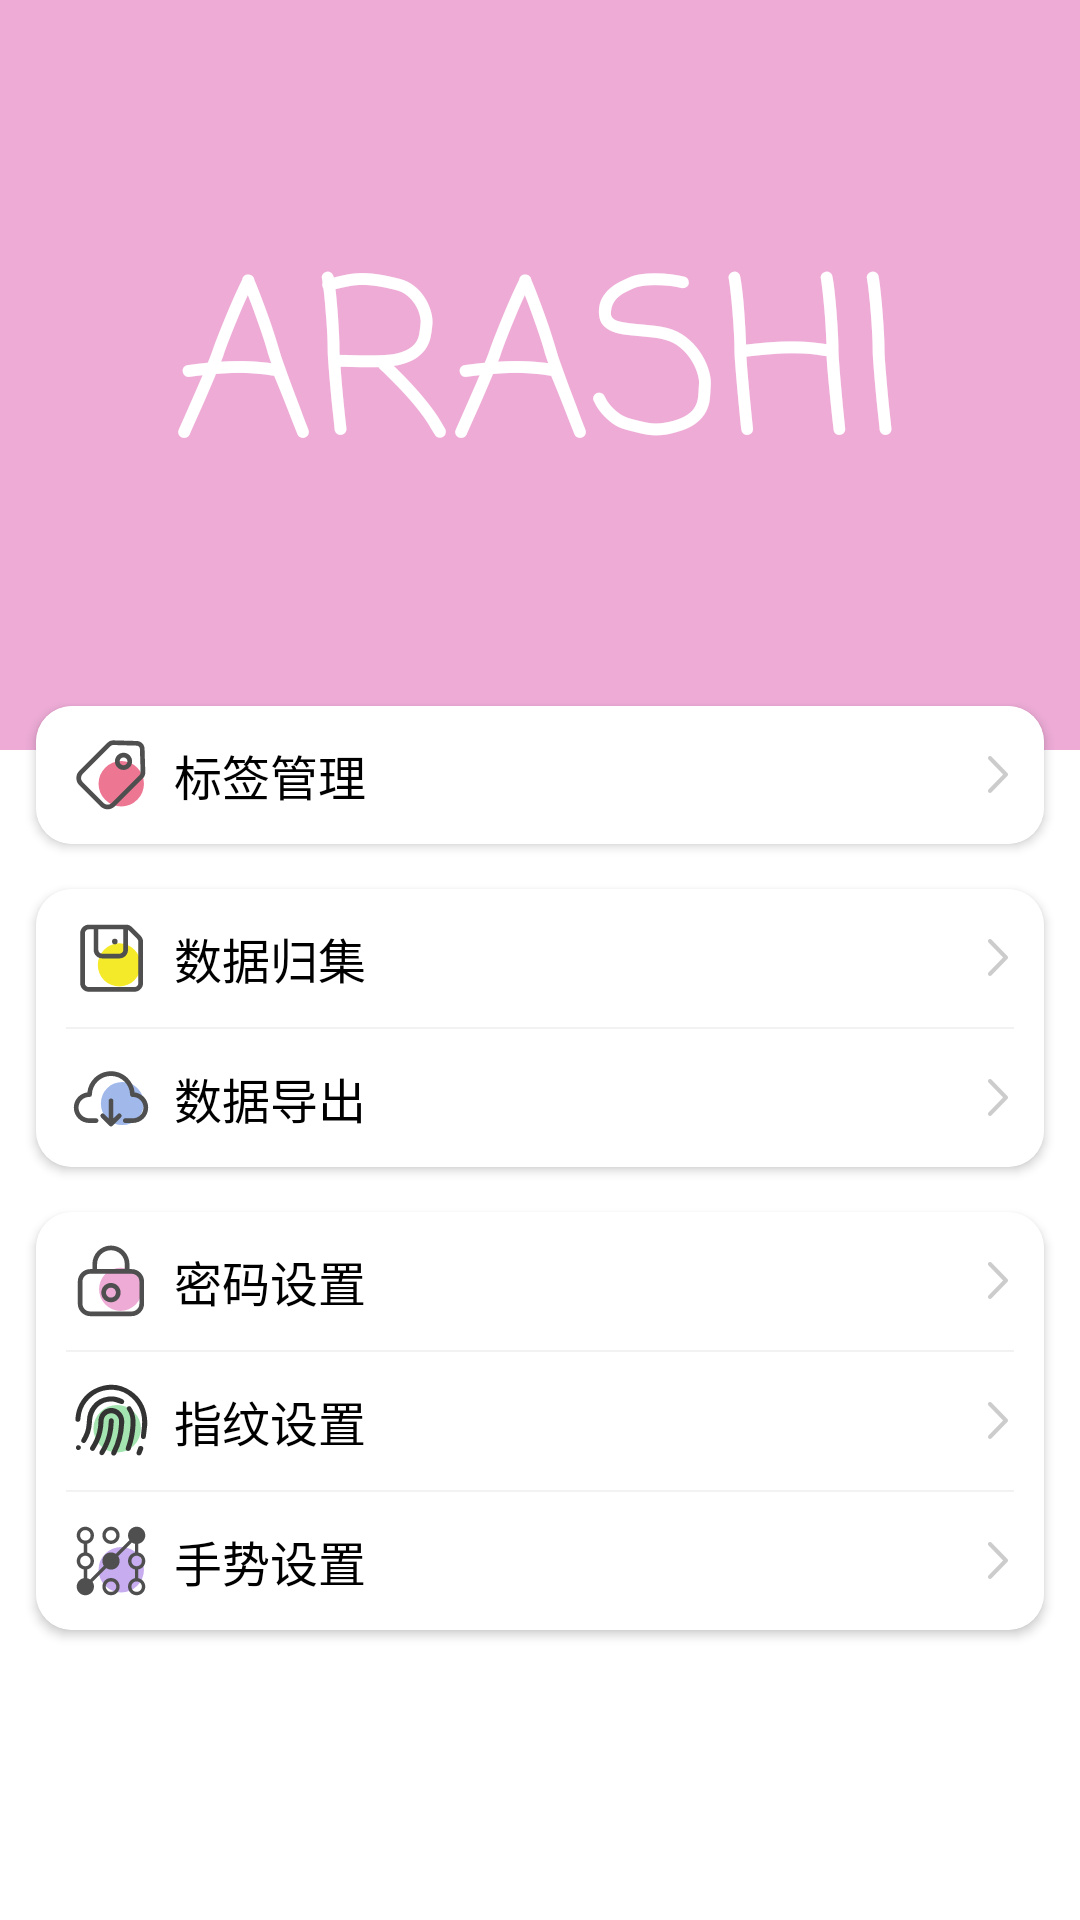

Icon bounding boxes for this 1080*1920 phone screenshot, format (x1, y1, x2, y2):
baocun: (80, 924, 143, 992)
biaoqian: (76, 740, 146, 810)
mima: (77, 1245, 144, 1317)
shoushi: (76, 1526, 146, 1596)
xiazai: (73, 1071, 149, 1127)
zhiwen: (75, 1384, 148, 1456)
